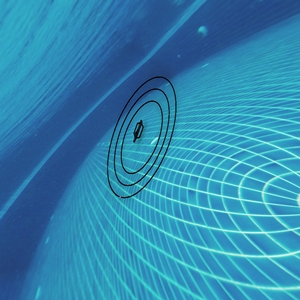circle: (97, 53, 177, 208)
submarine: (134, 123, 145, 138)
